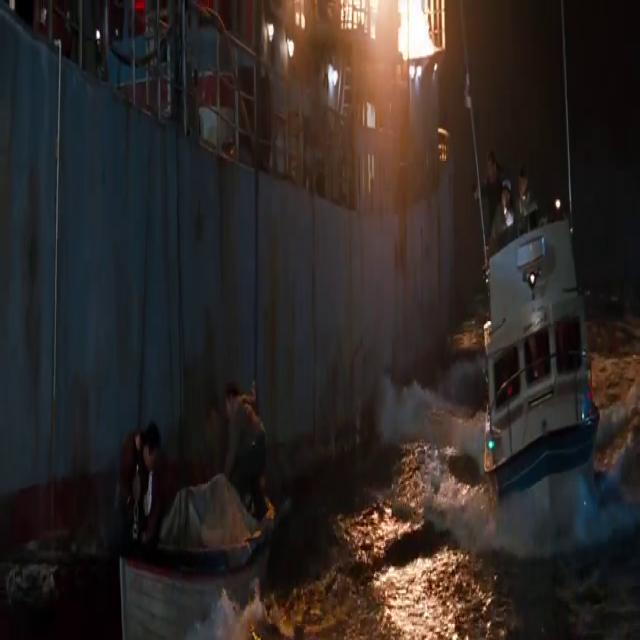Boat: (0, 1, 494, 517), (428, 26, 640, 555), (106, 390, 301, 640)
People: (190, 335, 269, 522), (116, 320, 160, 536)
